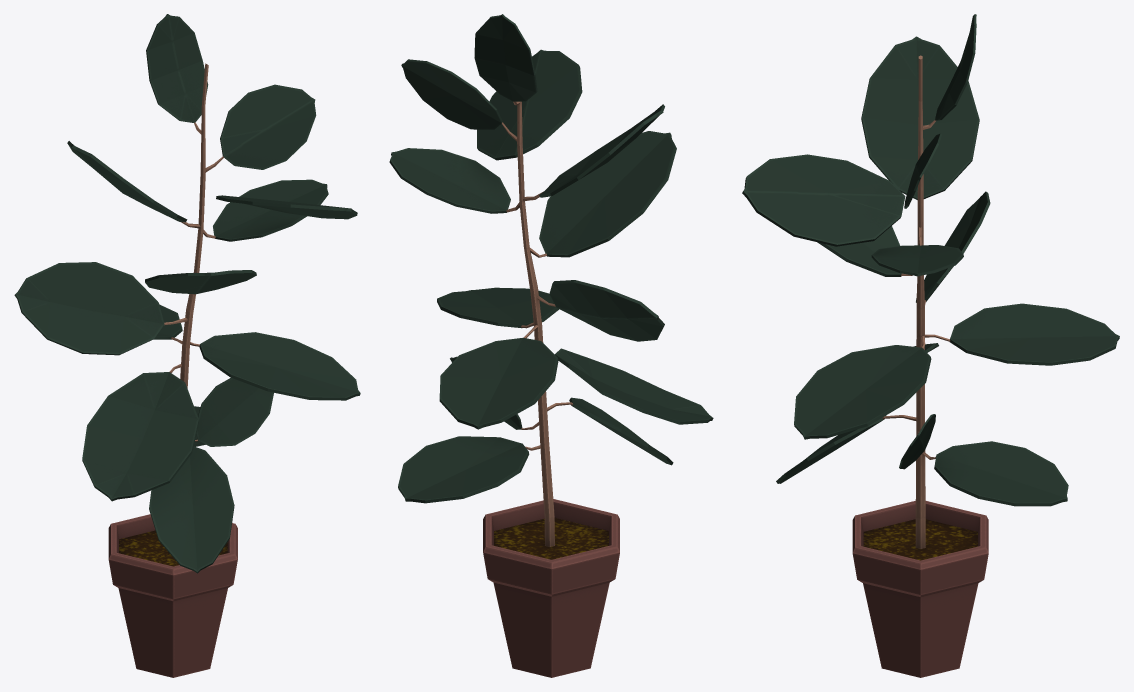
The model's file is fig-plant.glb.
3 views of the same model, side by side, from view 1: azimuth 30°, elevation 25°; view 2: azimuth 150°, elevation 25°; view 3: azimuth 270°, elevation 25° (orthographic). The views are drawn at different scales.
Visible parts, largest first — view 1: RubberFigPottedPlant_mesh; view 2: RubberFigPottedPlant_mesh; view 3: RubberFigPottedPlant_mesh.
Part boxes in pixels (x1,y1,x2,y2): RubberFigPottedPlant_mesh: (14, 14, 360, 677); RubberFigPottedPlant_mesh: (389, 14, 713, 677); RubberFigPottedPlant_mesh: (742, 14, 1119, 677).
Bounding box in the file's own units: 5.21 × 10.98 × 5.74.
1 material, 1 textured.
